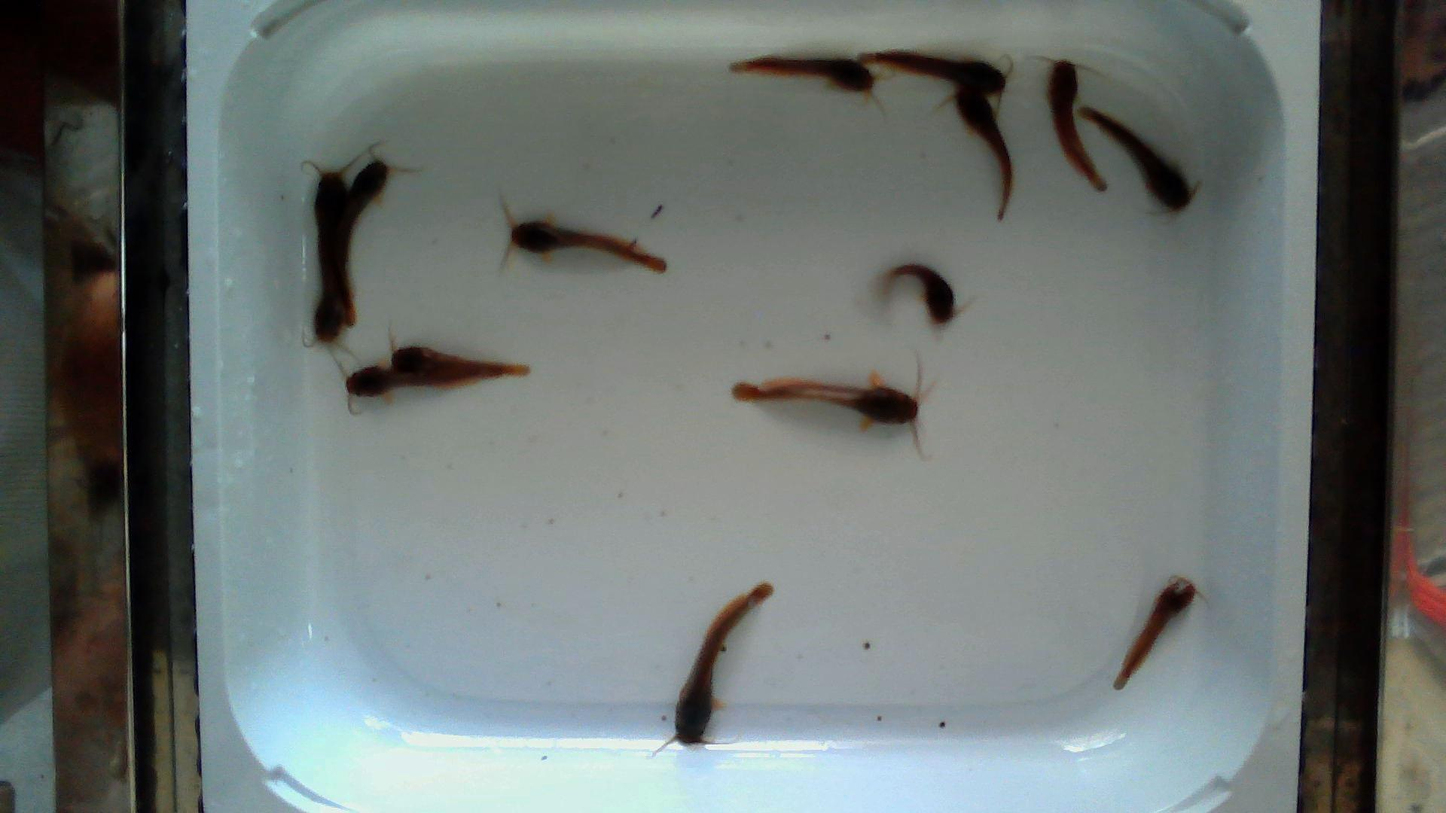lele: (672, 582, 773, 744), (1083, 107, 1191, 211), (732, 376, 918, 428), (1114, 577, 1196, 689), (335, 159, 391, 323), (511, 221, 666, 272), (954, 85, 1012, 218), (1048, 61, 1106, 190), (862, 52, 1005, 95), (731, 56, 874, 93), (347, 365, 498, 400), (395, 347, 531, 379), (883, 263, 954, 324), (313, 172, 345, 289), (317, 232, 343, 344)
